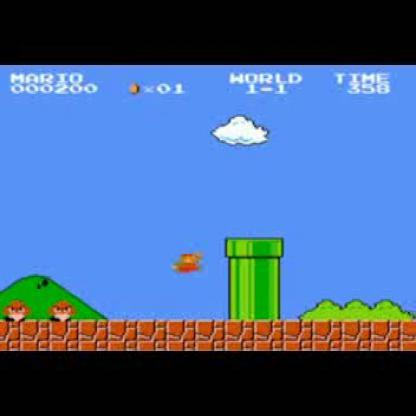Goomba: (3, 298, 33, 324), (48, 299, 76, 324)
